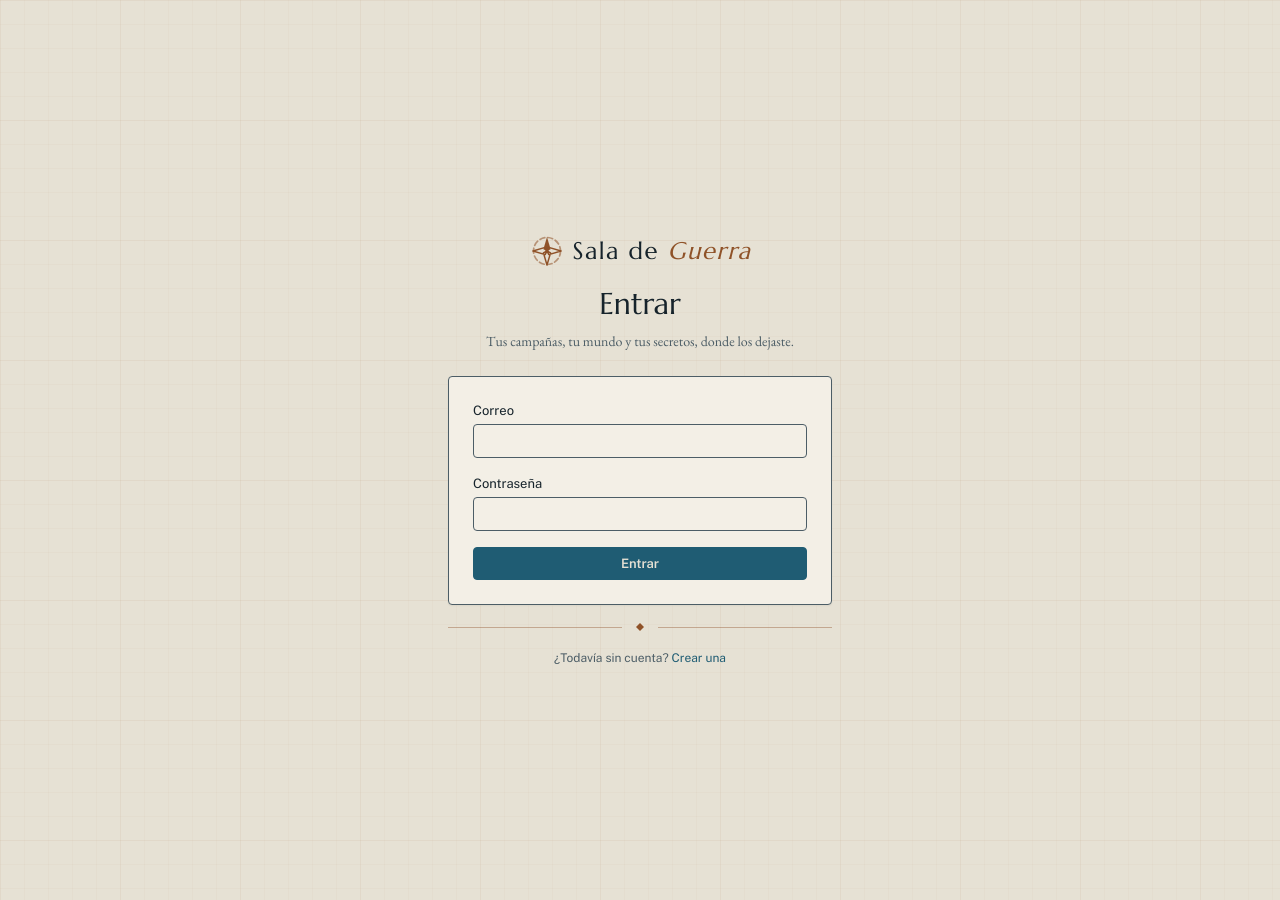
Test: LoginPage › announces a failed login as an alert, not silent text
In the field labelled "Correo": (640, 441) [473,424,807,458], type "a@a.com"
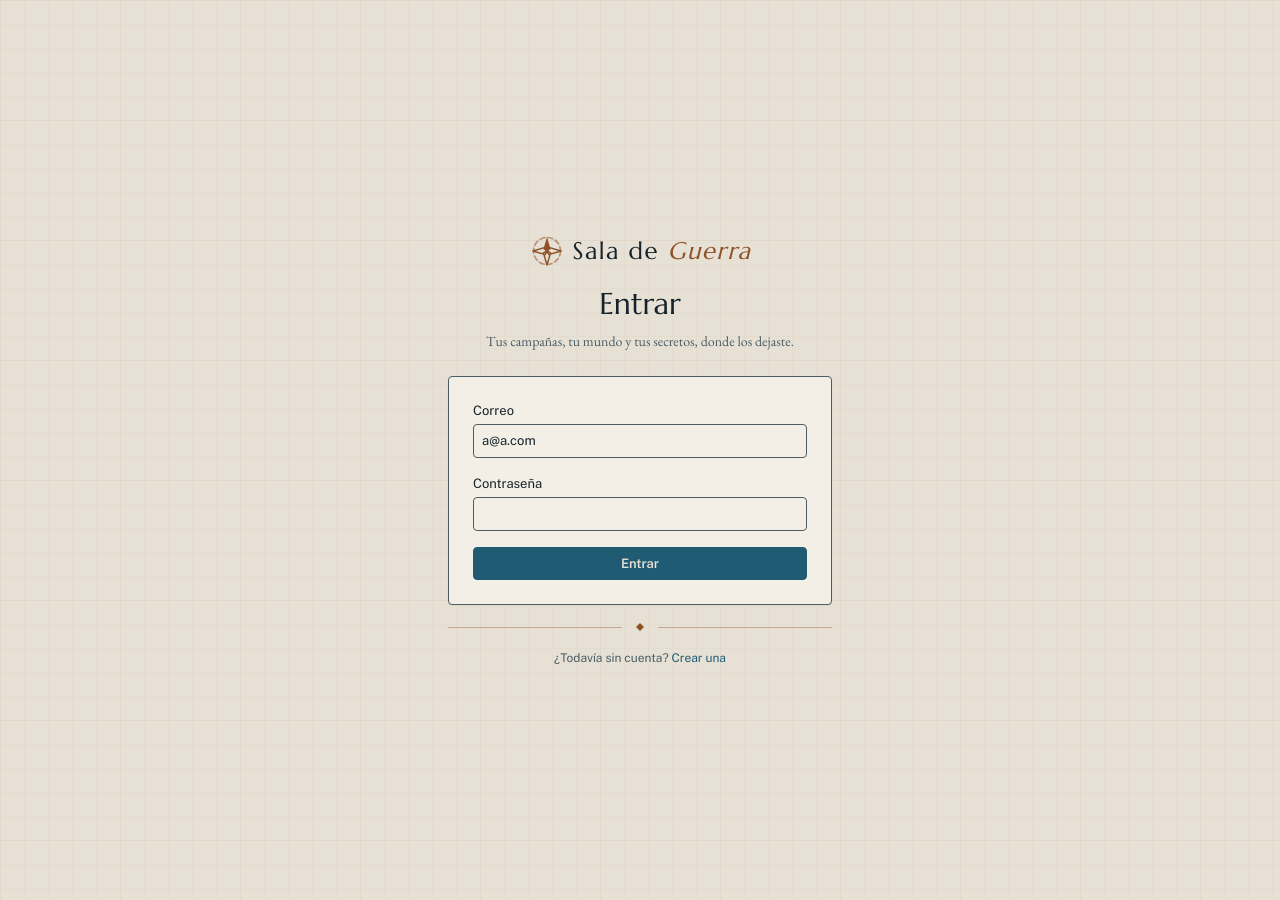
In the password field labelled "Contraseña": (640, 514) [473,497,807,530], type "wrong-password"
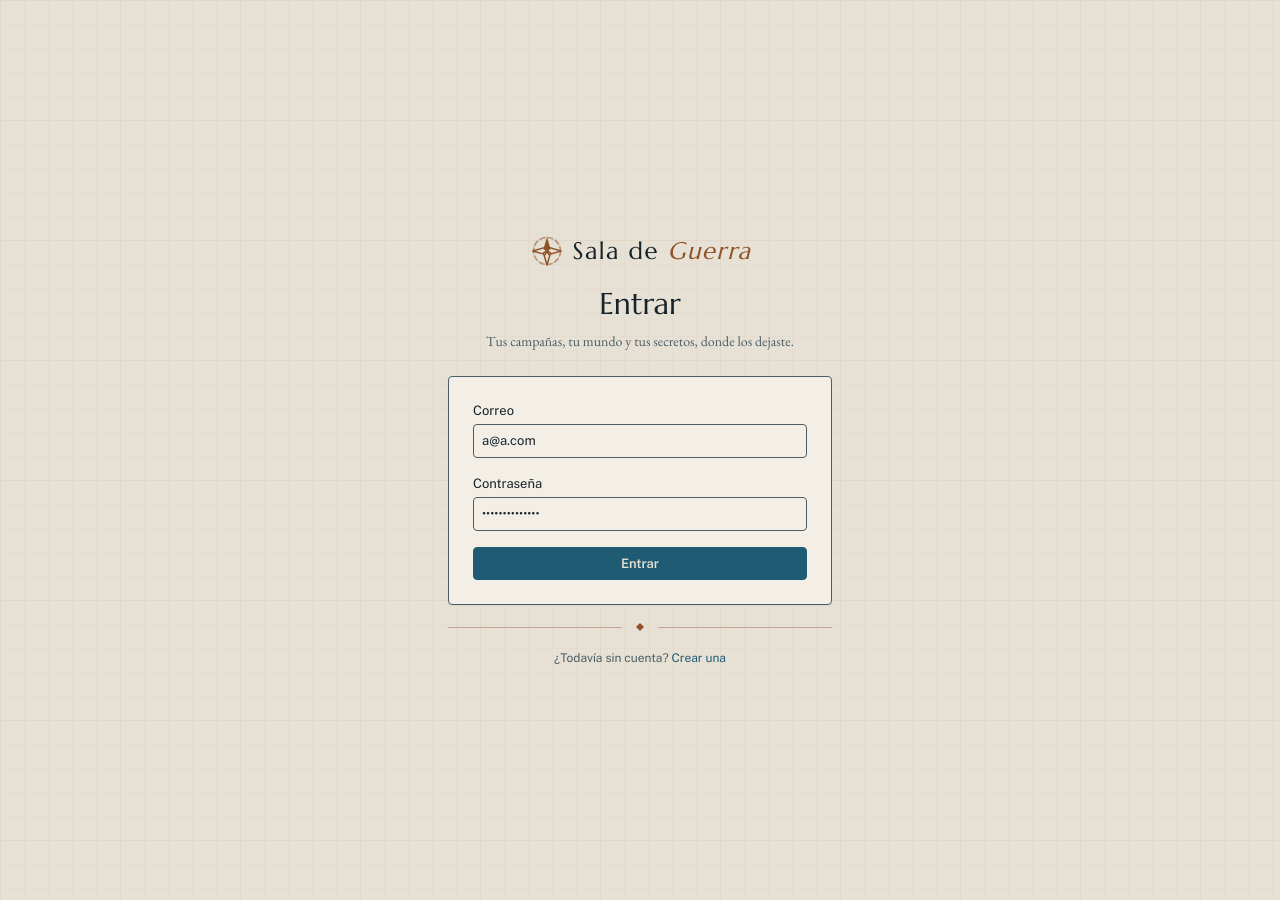
Click the button "Entrar": (640, 563) [473,546,807,580]
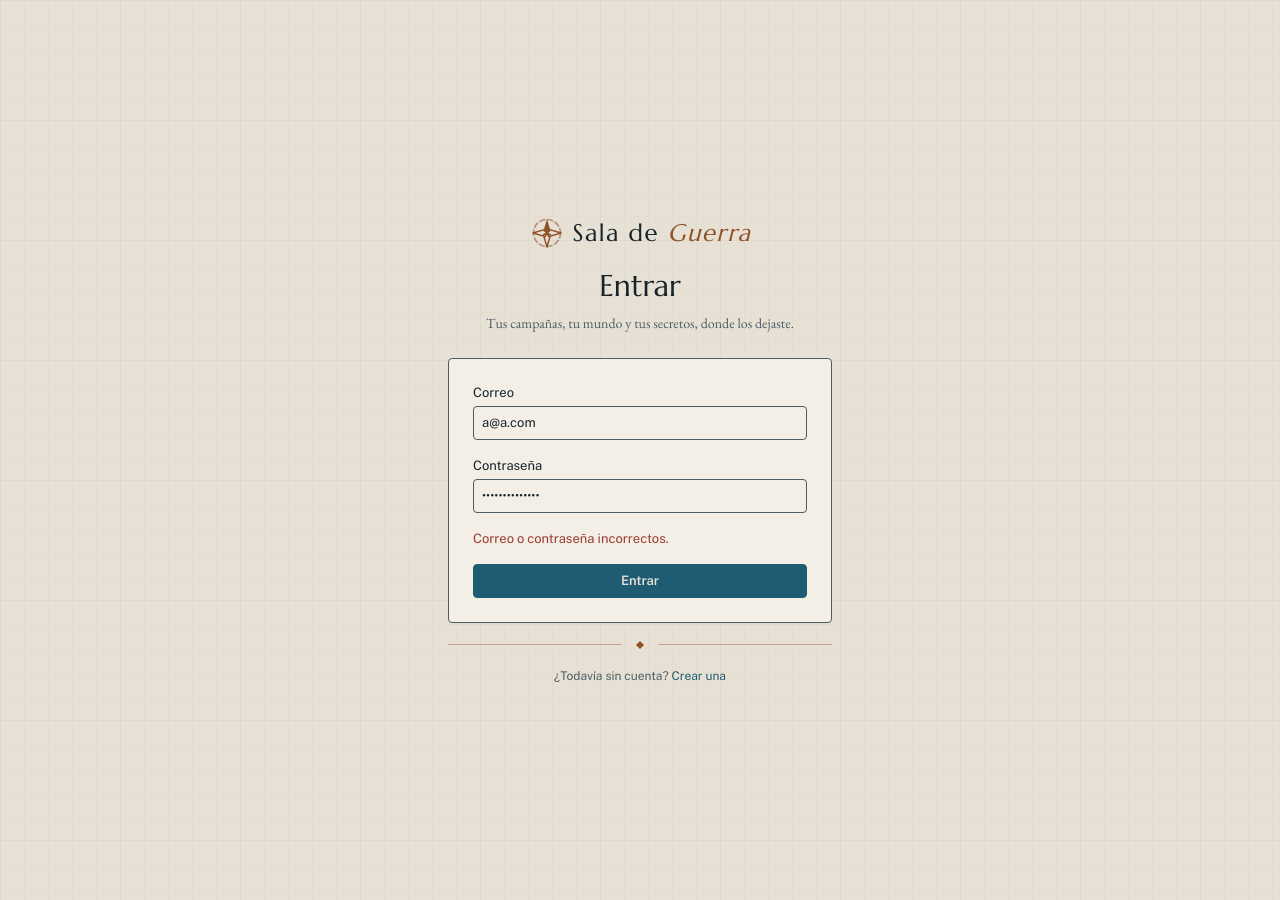
Expected: the message reads "Correo o contraseña incorrectos.", [473,531,669,546]
